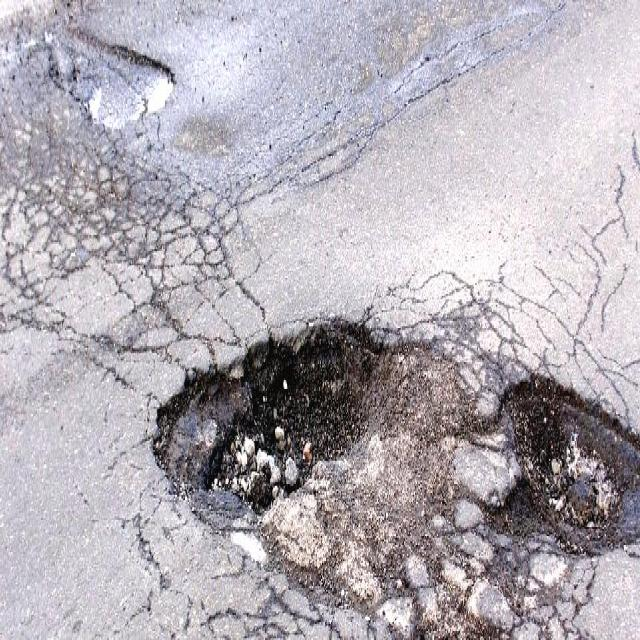pothole: (141, 312, 467, 556), (486, 361, 640, 567), (42, 22, 176, 138)
